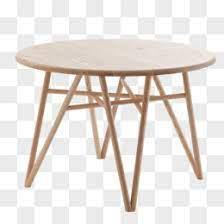desk: (5, 17, 218, 217)
